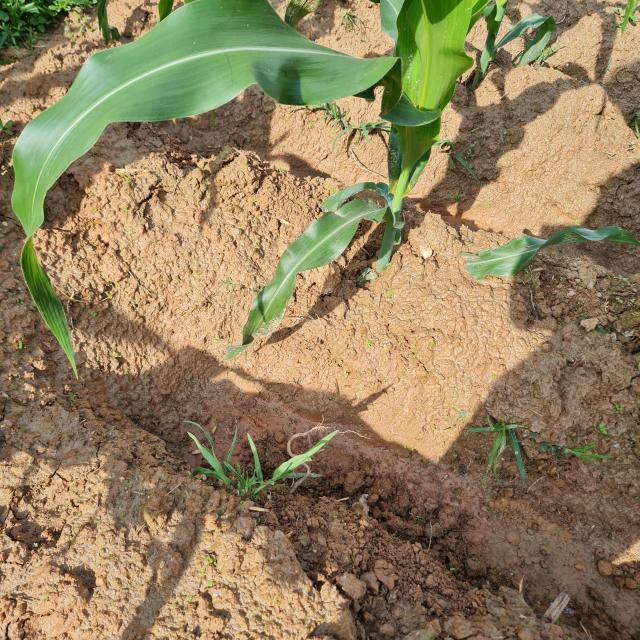maize: (23, 32, 343, 366), (288, 0, 442, 311), (470, 208, 640, 320)
weed: (163, 413, 347, 525), (483, 387, 601, 489)
